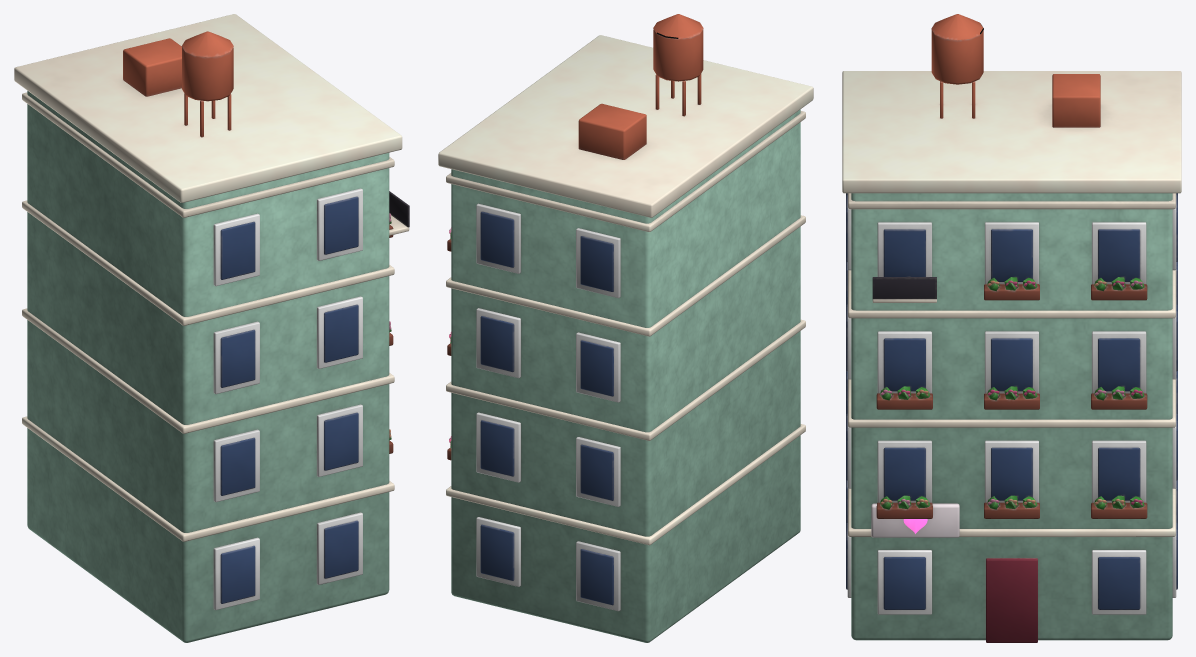
File: rc_building_f.glb
3 views of the same model, side by side, from view 1: azimuth 30°, elevation 25°; view 2: azimuth 150°, elevation 25°; view 3: azimuth 270°, elevation 25° (orthographic). The views are drawn at different scales.
Visible parts, largest first — view 1: rc_building_f; view 2: rc_building_f; view 3: rc_building_f.
Boxes of the visible parts, <box> form: rc_building_f: <box>14,14,409,642</box>; rc_building_f: <box>438,14,813,642</box>; rc_building_f: <box>842,14,1181,642</box>.
Size of the model in its own units: 7.08 by 15.45 by 8.45.
15 materials, 15 textured.
